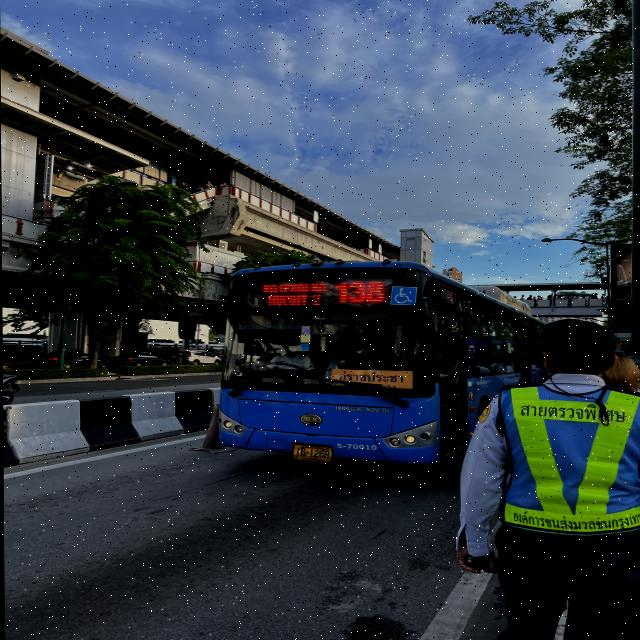BMTA-bus: (208, 262, 544, 468)
Bus-Line-Number: (331, 274, 391, 305)
Destination-Sign-Normal-Expressway: (331, 369, 414, 392)
